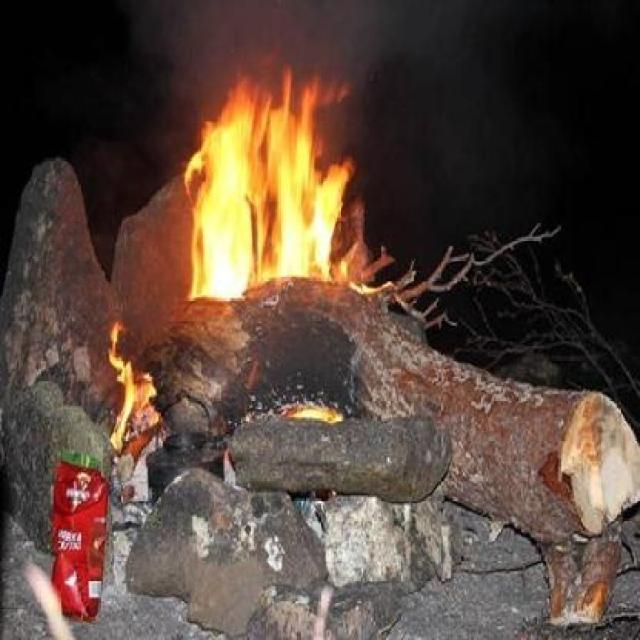Fire: (184, 54, 354, 302), (106, 322, 160, 448), (281, 398, 341, 422)
